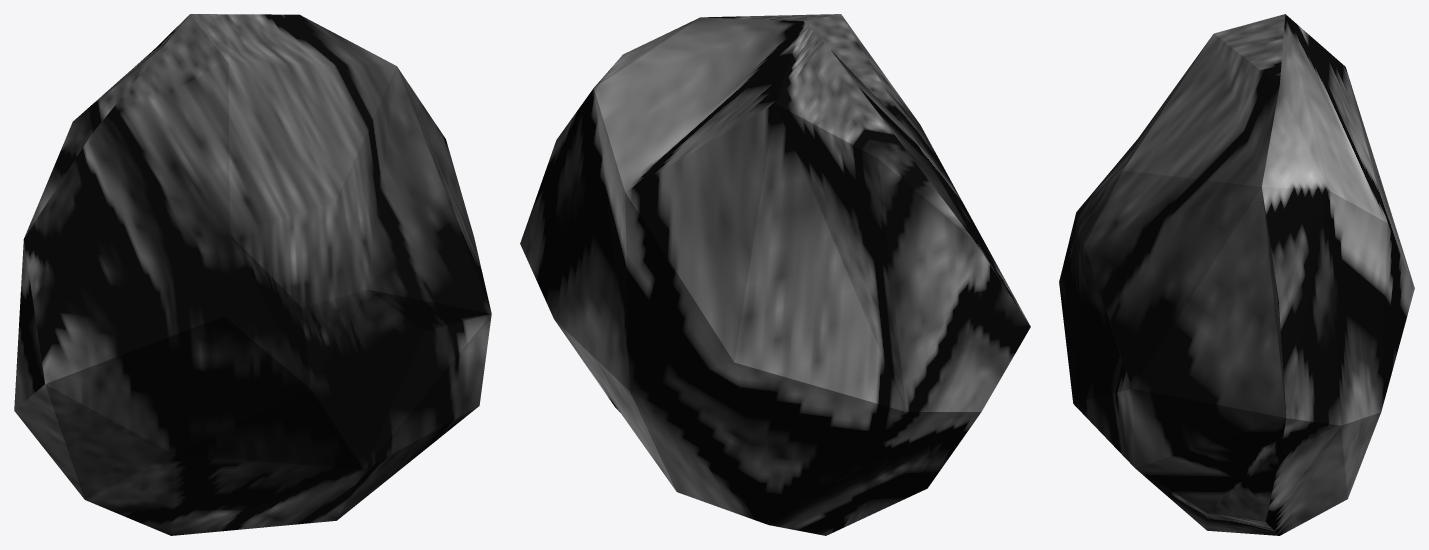
File: boulder2_wtf.obj
3 views of the same model, side by side, from view 1: azimuth 30°, elevation 25°; view 2: azimuth 150°, elevation 25°; view 3: azimuth 270°, elevation 25° (orthographic). The views are drawn at different scales.
Parts seen in each view (by area): view 1: group2; view 2: group2; view 3: group2.
Part boxes in pixels (<box>): group2: <box>14,14,491,535</box>; group2: <box>520,14,1030,535</box>; group2: <box>1059,14,1414,535</box>.
Bounding box in the file's own units: 633 × 660 × 442.
